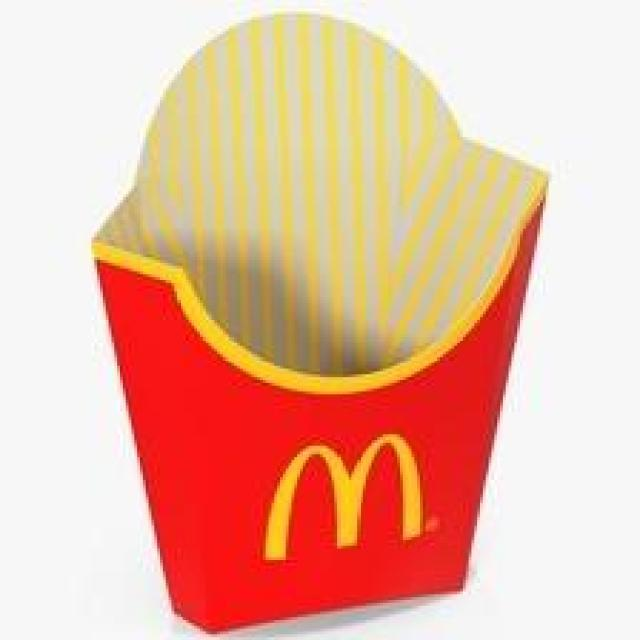Cardboard: (89, 12, 554, 636)
